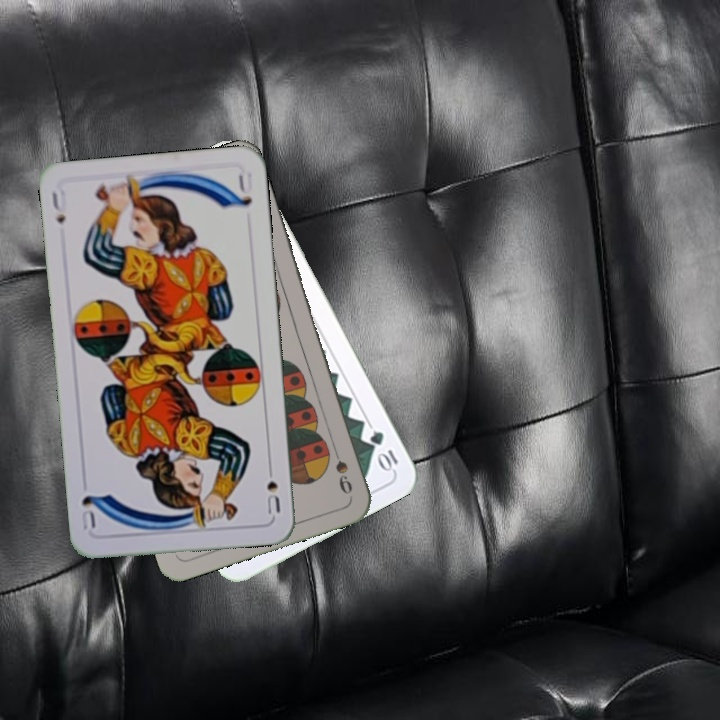G10: (365, 426, 401, 474)
S9: (328, 440, 355, 497)
SU: (263, 459, 283, 518), (47, 186, 70, 227)
